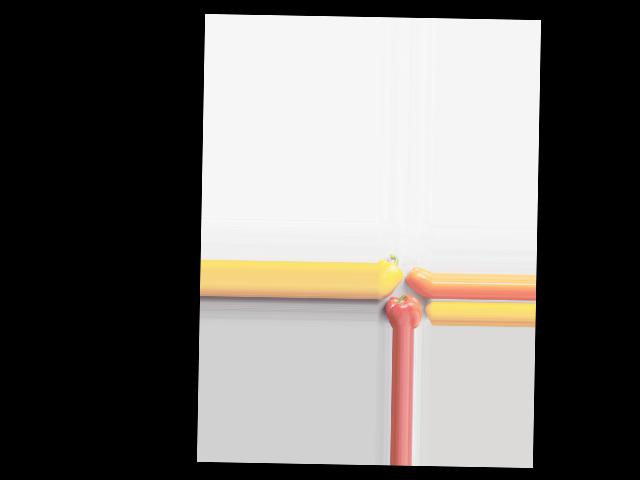bell_pepper: (383, 293, 422, 328)
